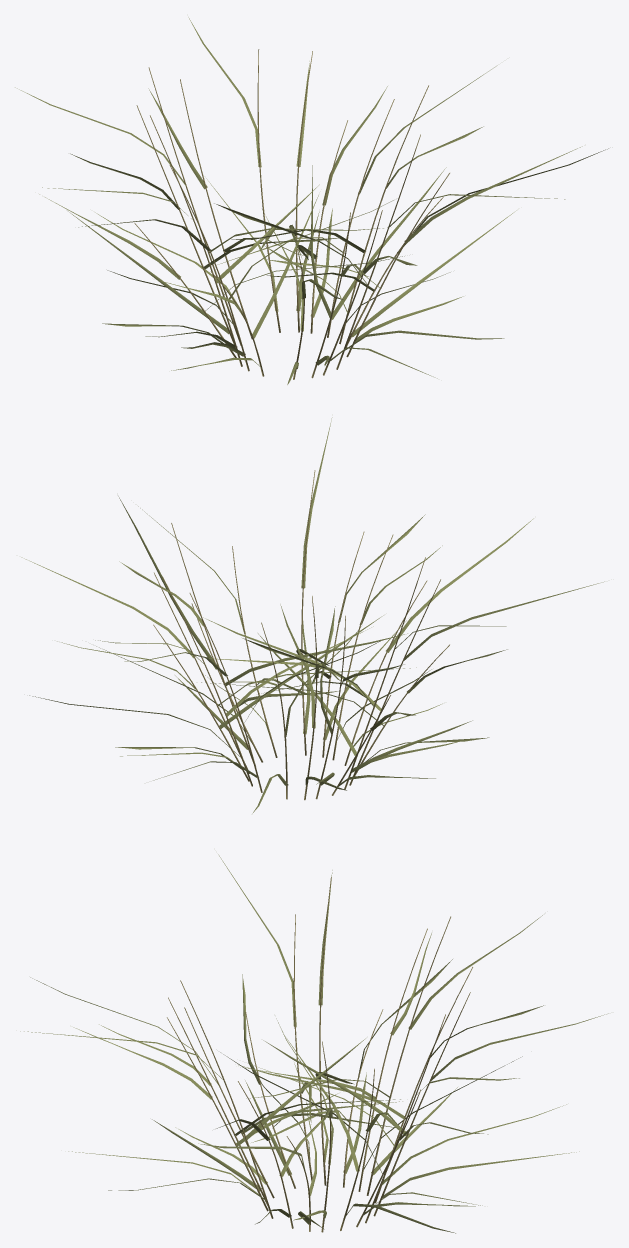
The model's file is Herbes_2_Niveau0.fbx.
3 views of the same model, one above another, from view 1: azimuth 30°, elevation 25°; view 2: azimuth 150°, elevation 25°; view 3: azimuth 270°, elevation 25° (orthographic). The views are drawn at different scales.
Visible parts, largest first — view 1: Herbes_2_Niveau0; view 2: Herbes_2_Niveau0; view 3: Herbes_2_Niveau0.
Part boxes in pixels (left/top/right/bottom): Herbes_2_Niveau0: left=15, top=17, right=608, bottom=384; Herbes_2_Niveau0: left=21, top=417, right=604, bottom=813; Herbes_2_Niveau0: left=20, top=854, right=608, bottom=1233.
Bounding box in the file's own units: 72.63 × 34.91 × 71.36.
